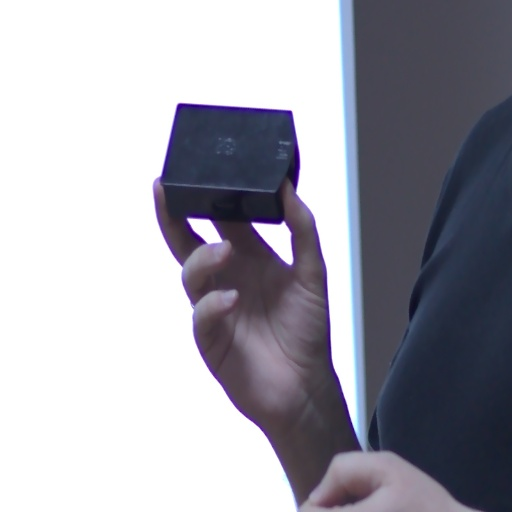hand: (153, 159, 381, 486), (298, 448, 464, 511)
